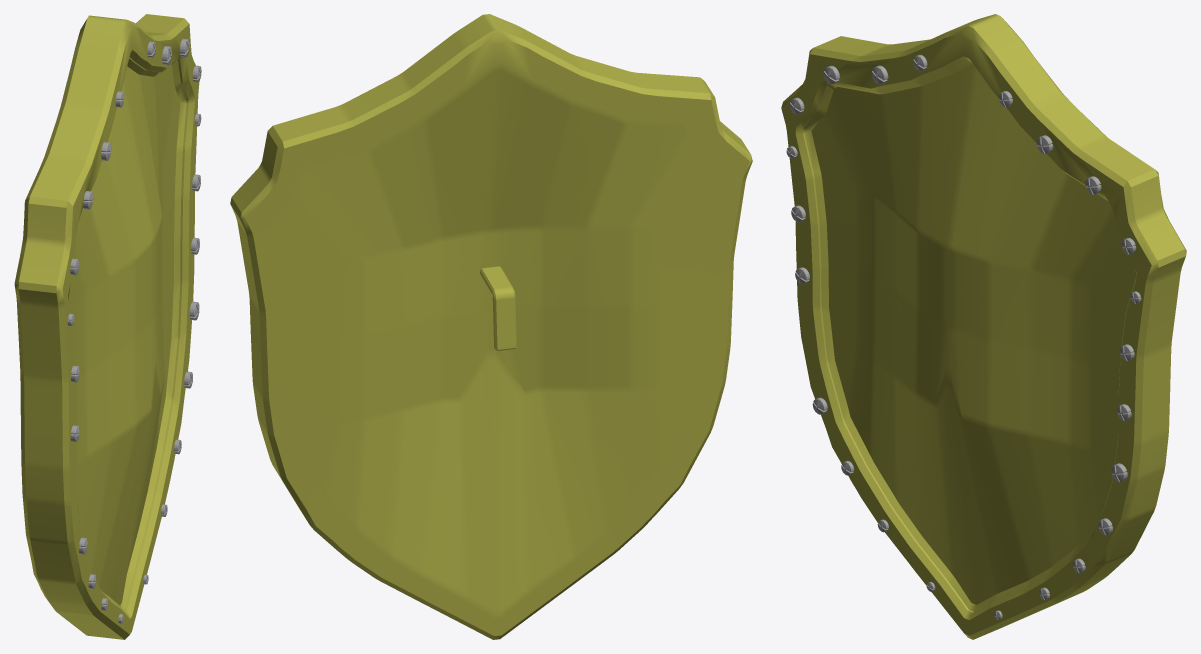
The model's file is Shield.fbx.
3 renders of one model, left to right at view 1: azimuth 30°, elevation 25°; view 2: azimuth 150°, elevation 25°; view 3: azimuth 270°, elevation 25°, orthographic.
Parts seen in each view (by area): view 1: pCylinder31; view 2: pCylinder31; view 3: pCylinder31.
Part boxes in pixels (x1=…): pCylinder31: x1=14, y1=14, x2=201, y2=639; pCylinder31: x1=230, y1=14, x2=752, y2=639; pCylinder31: x1=781, y1=14, x2=1186, y2=639.
Size of the model in its own units: 3.95 by 6.57 by 3.94.
